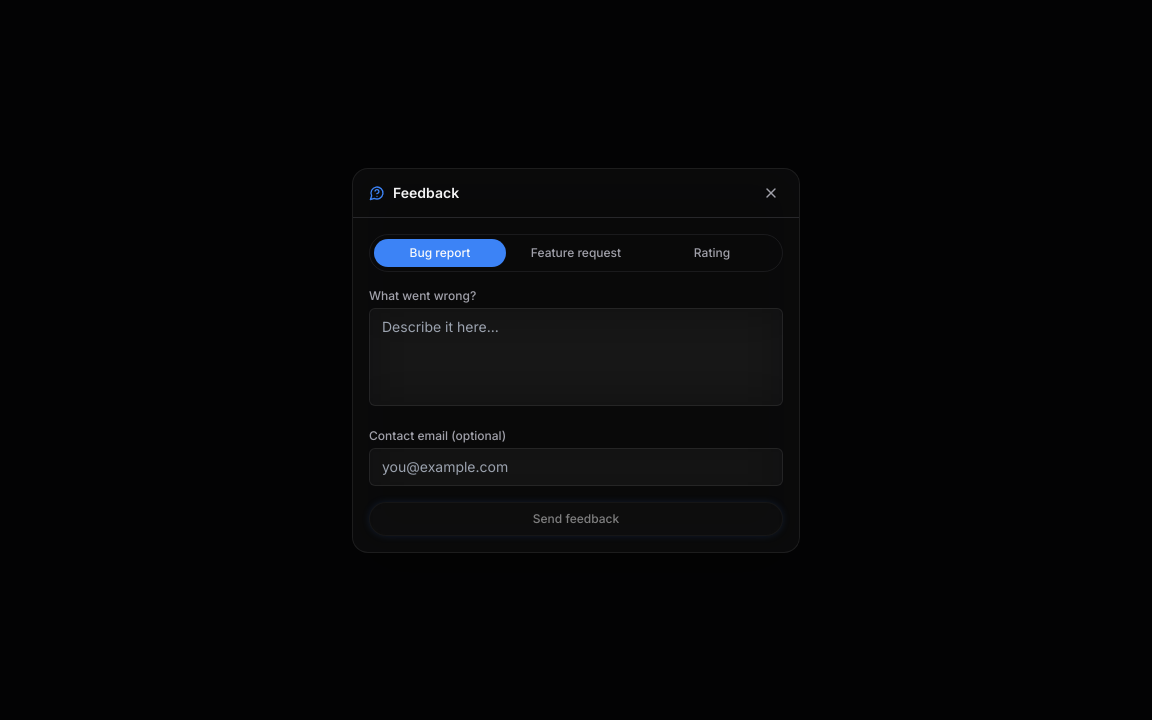
FeedbackModal › submits a bug report with the typed message
Type "the compare modal flickers" into the text box labelled "What went wrong?" at x=576, y=356, box [369,308,783,406]
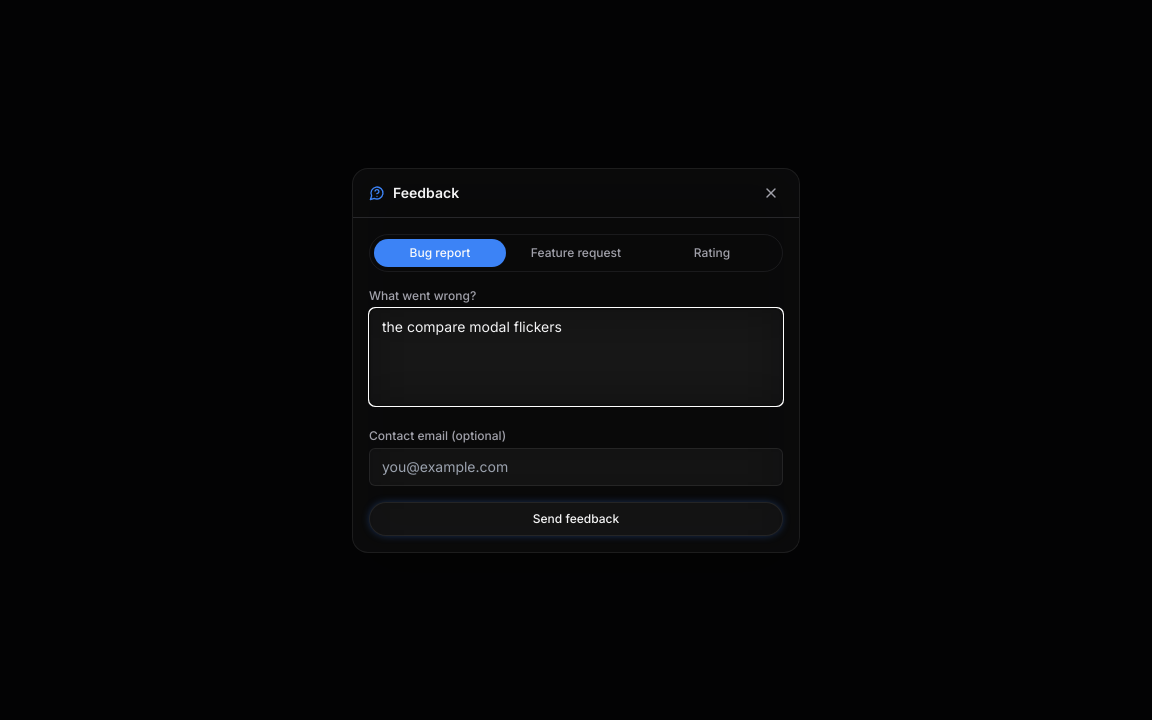
Click the button "Send feedback" at x=576, y=518, box [369,502,783,536]
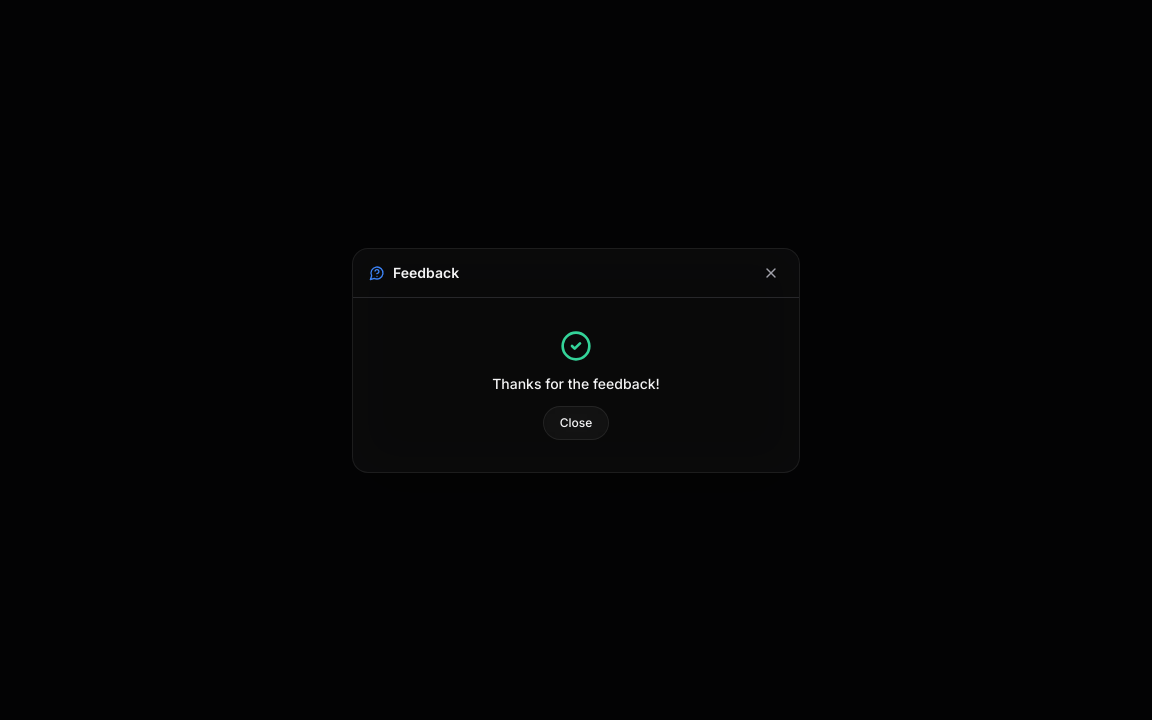
Now the text "Thanks for the feedback!" is shown, box [492,374,660,394]
